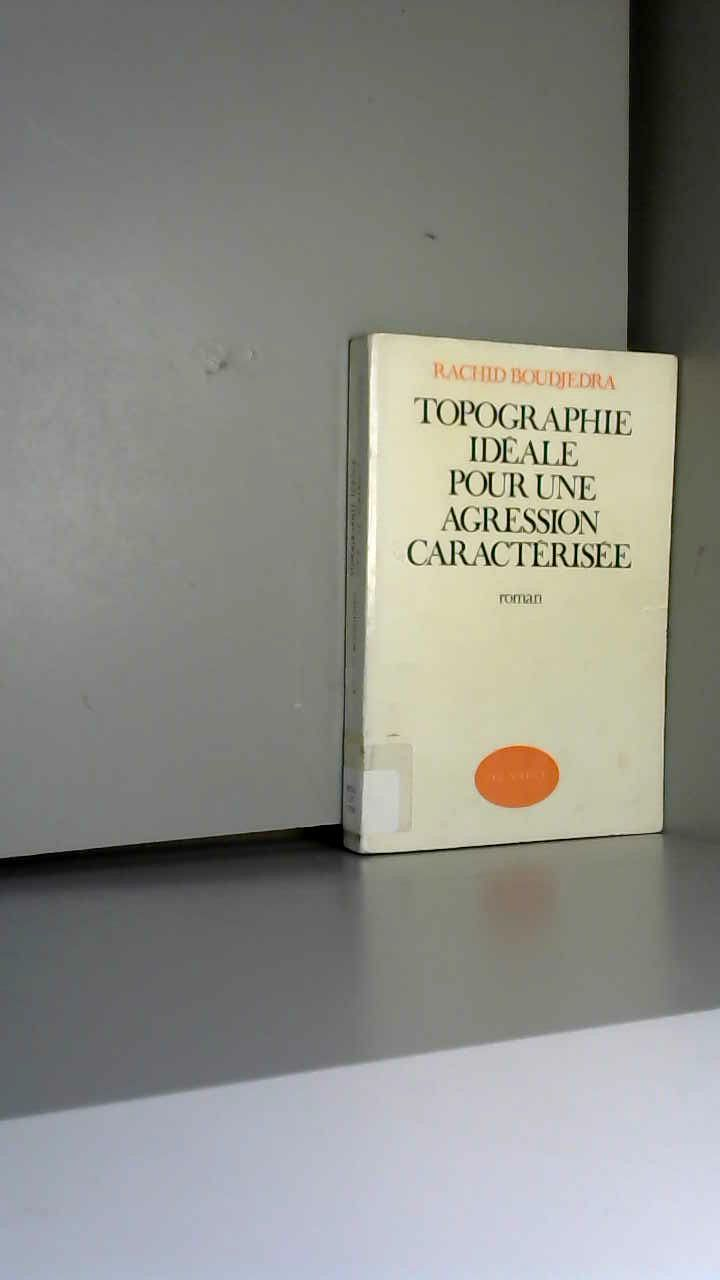book: (340, 310, 720, 934)
